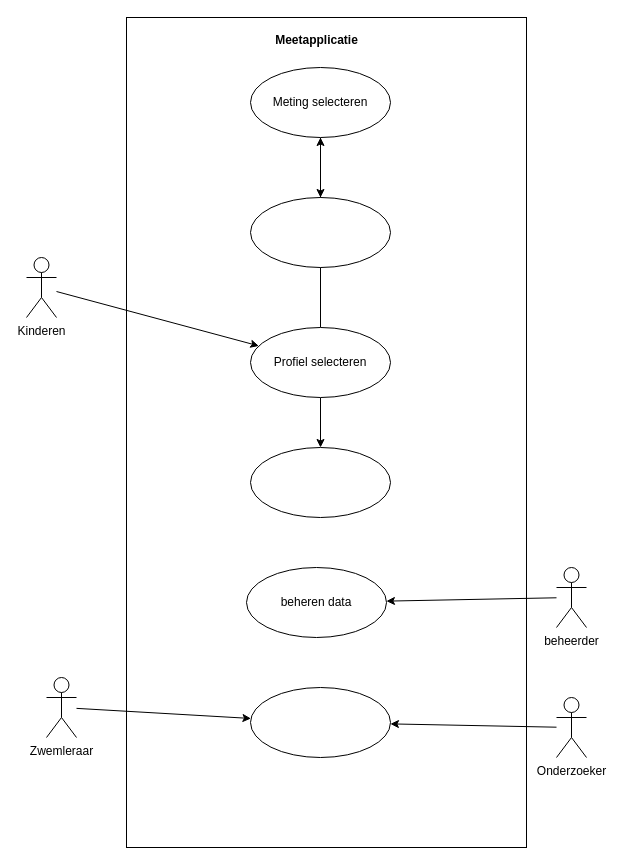
The diagram is 623 pixels wide and 865 high, and some of its shapes have lost their labels. The shapes that lost their labels are listed below. From the top down, each one's centre as x and y in pixels, then its label:
At pixel 320 232: "Meting geven".
At pixel 320 482: "profiel aanpassen".
At pixel 320 722: "Metingen lezen".
